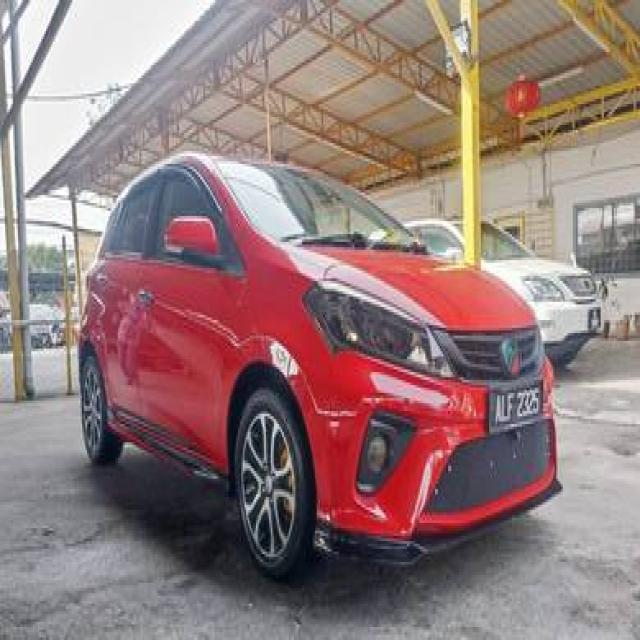PeroduaMyvi: (75, 148, 563, 580)
